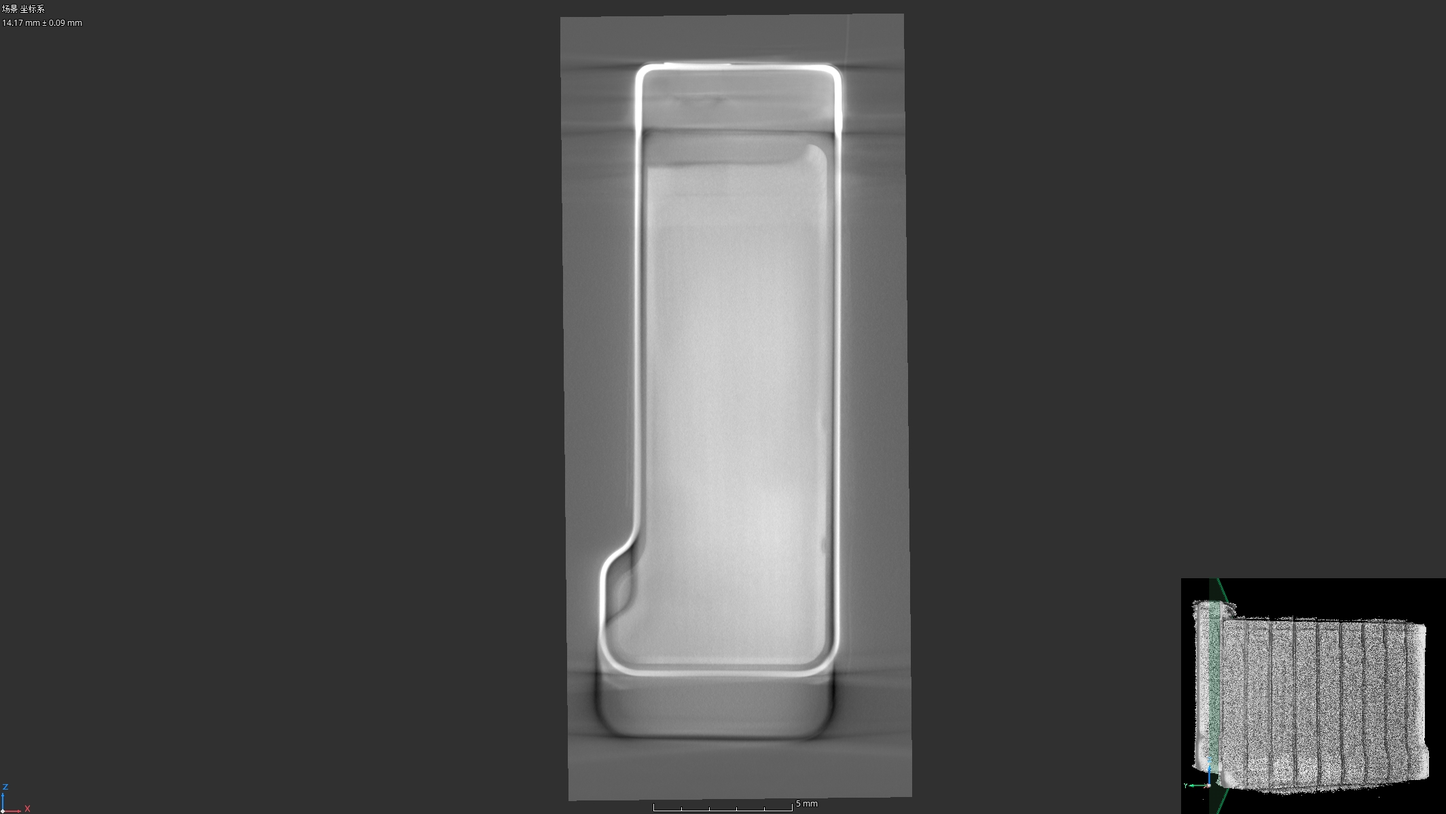damage: (819, 535, 829, 557)
